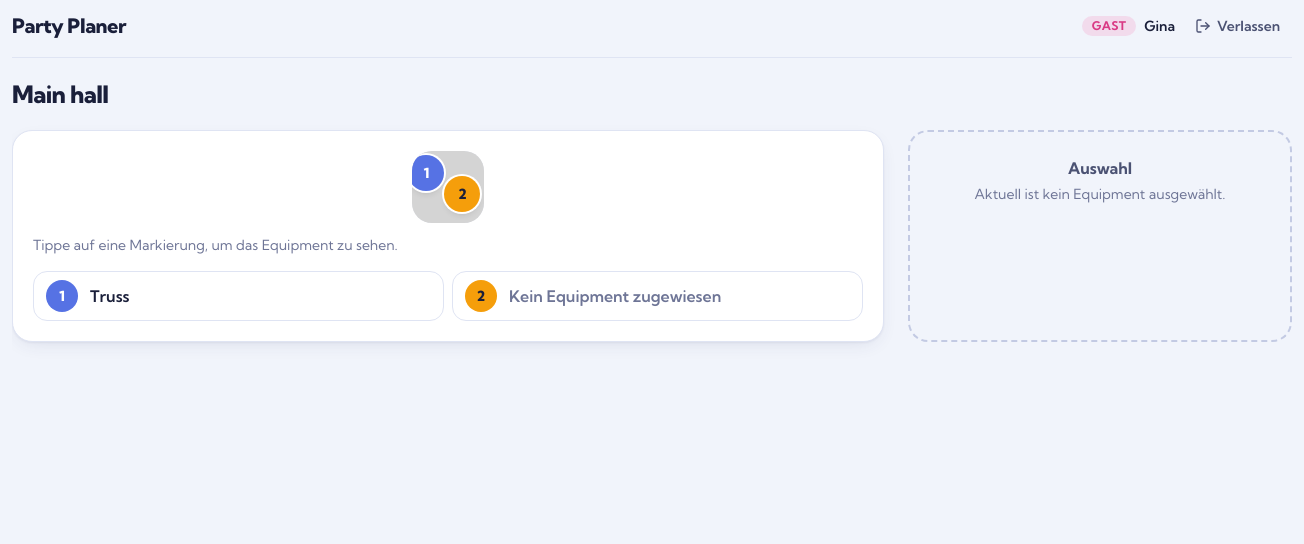
Test: GuestPlaceView › lets guests look at equipment details
Click the button named "Markierung 1" at (426, 173), box [404,151,448,195]
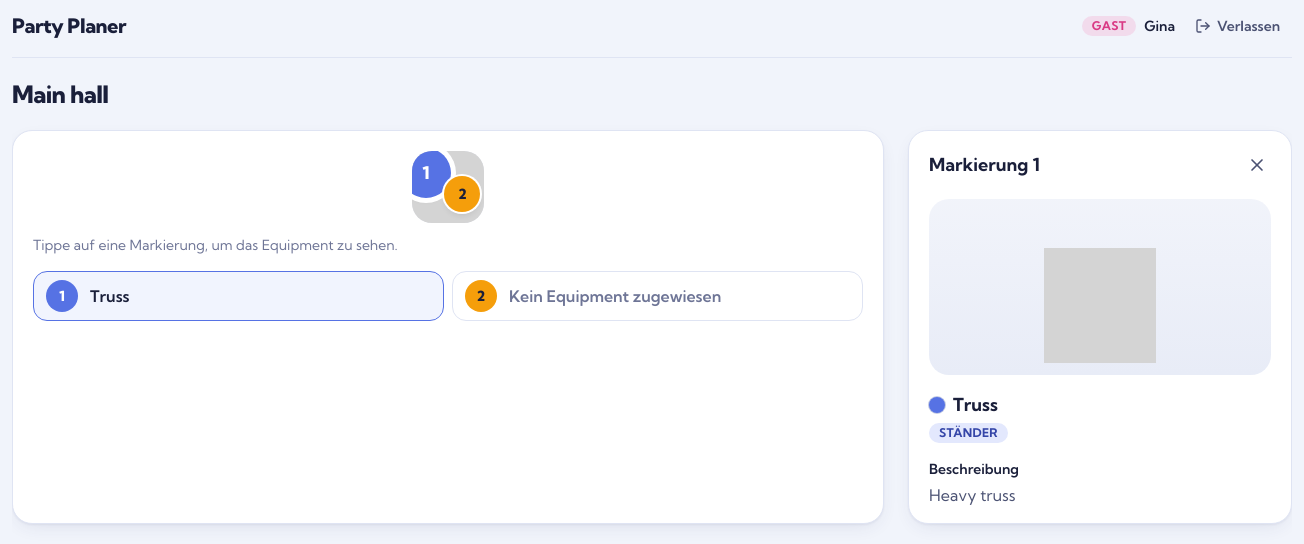
Now the text "Heavy truss" is shown, box [929,485,1016,505]
